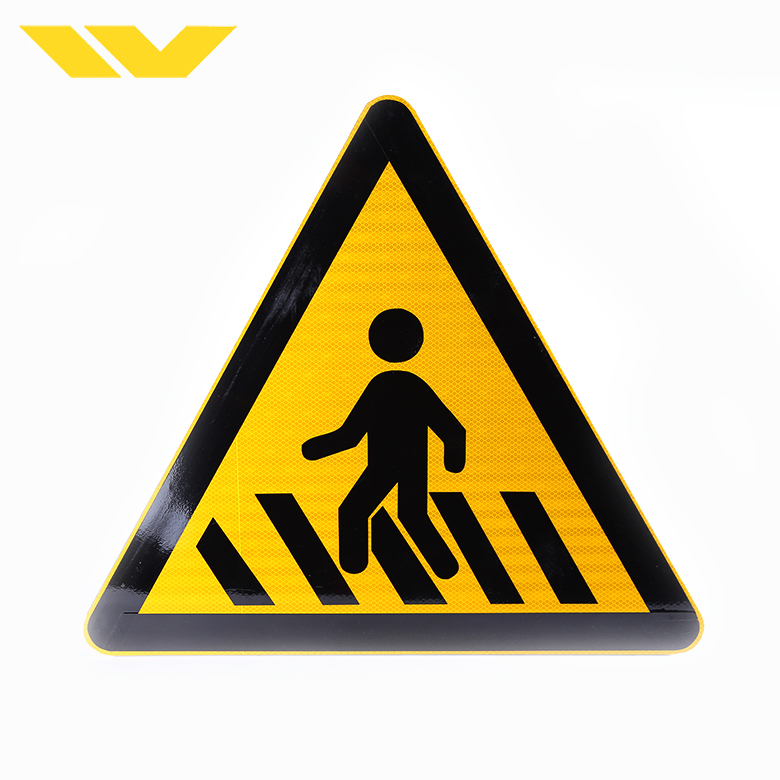pedestrian: (98, 98, 700, 656)
